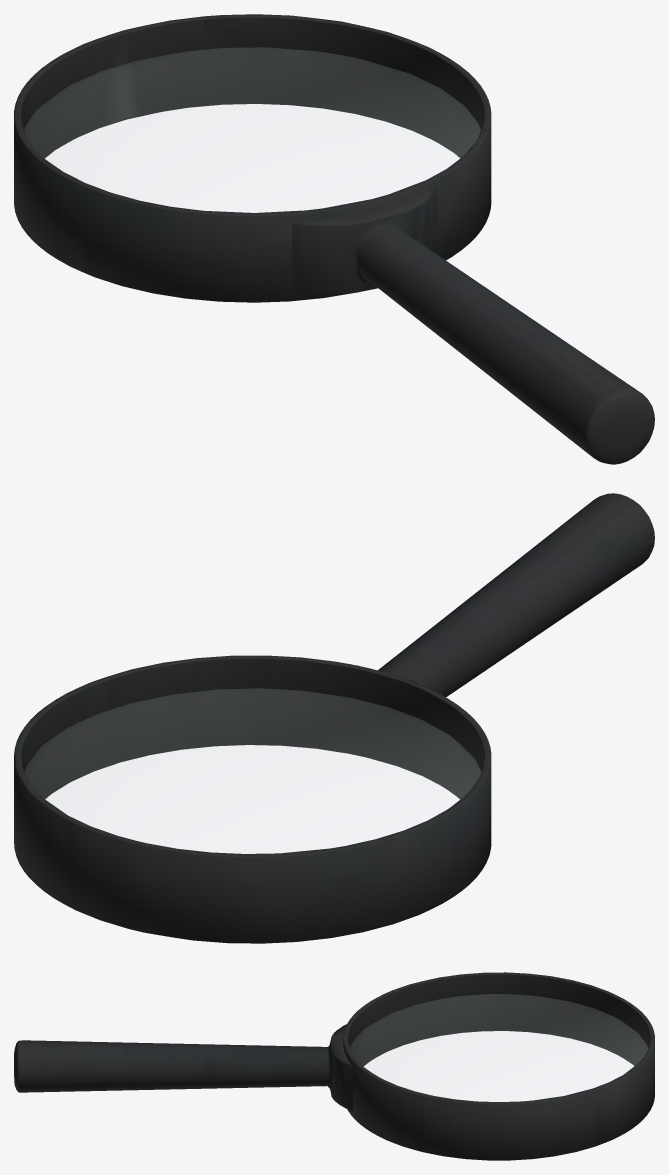
File: magnifying_glass_01.glb
3 renders of one model, top to bottom at view 1: azimuth 30°, elevation 25°; view 2: azimuth 150°, elevation 25°; view 3: azimuth 270°, elevation 25°, orthographic. The views are drawn at different scales.
Parts seen in each view (by area): view 1: magnifying_glass_01; view 2: magnifying_glass_01; view 3: magnifying_glass_01.
Boxes of the visible parts, x1,y1,x2,y2 form: magnifying_glass_01: (14, 14, 654, 464); magnifying_glass_01: (14, 493, 654, 943); magnifying_glass_01: (14, 972, 654, 1160).
Size of the model in its own units: 0.1321 by 0.0267 by 0.2715.
Materials: 2 (1 with a texture image).
